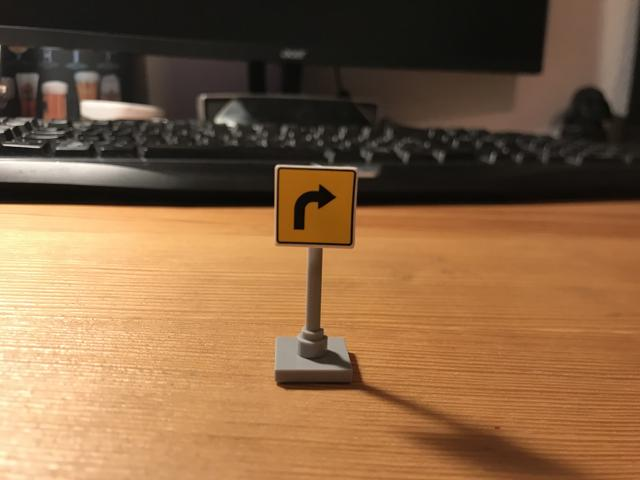fahrtrichtung rechts: (273, 164, 359, 248)
